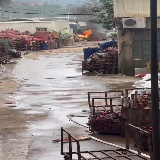fire: (78, 30, 91, 37)
